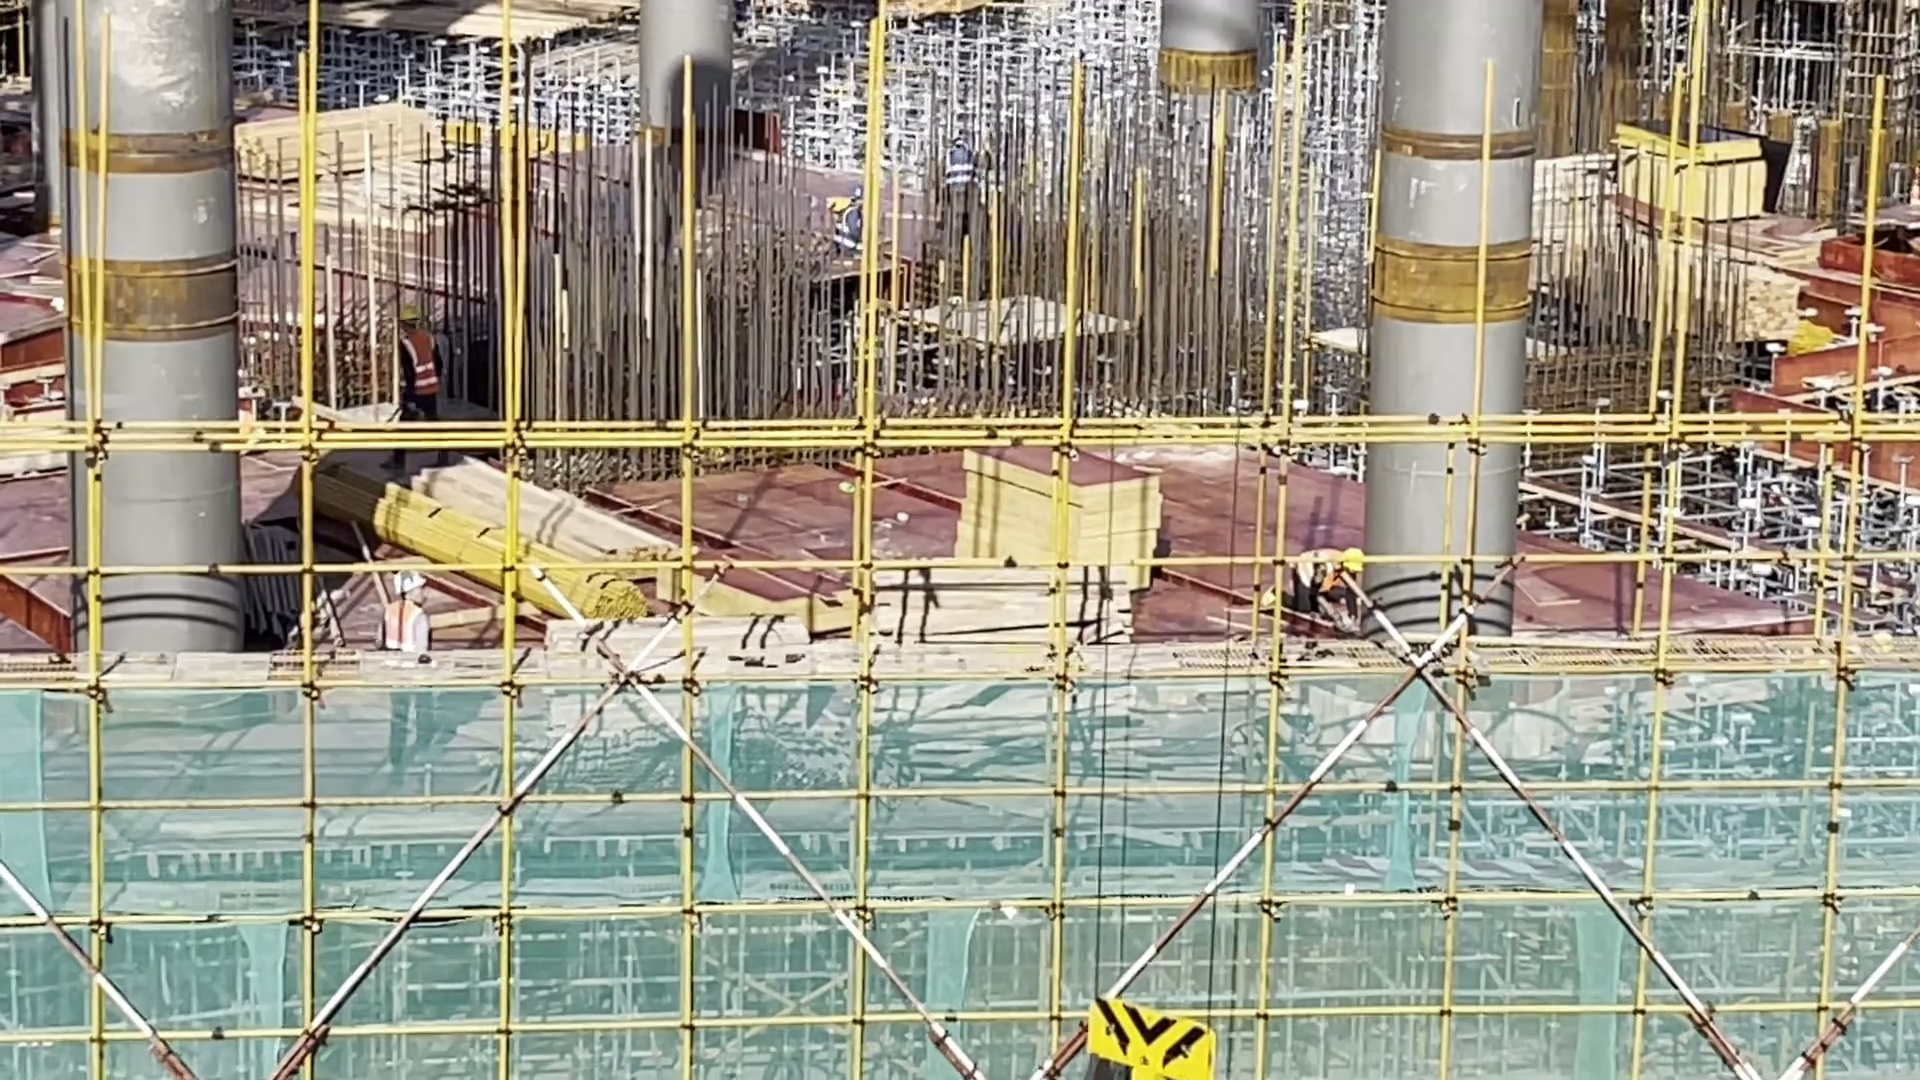board: (959, 433, 1169, 557), (1619, 112, 1767, 229)
hook: (1090, 1001, 1218, 1080)
person: (385, 297, 456, 418), (1298, 542, 1370, 616)
vest: (381, 599, 431, 667), (398, 335, 439, 402)
wood: (412, 470, 678, 618), (1736, 277, 1808, 335)
